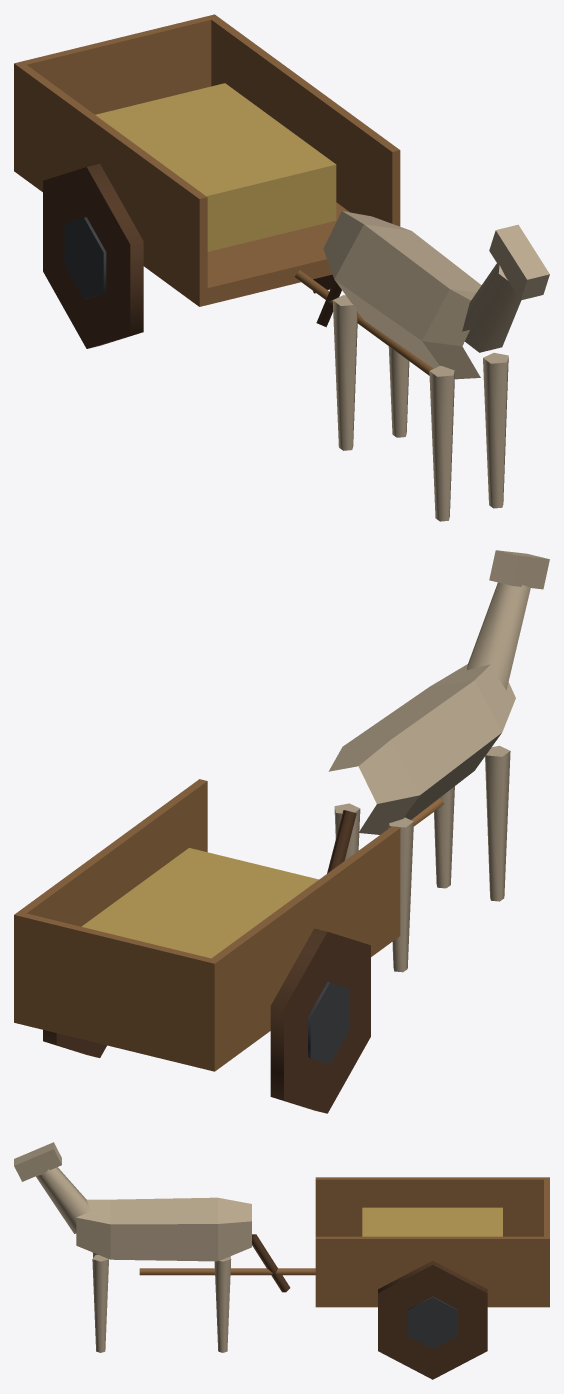
The model's file is veh_ground_cart_a02_lod1.glb.
3 renders of one model, top to bottom at view 1: azimuth 30°, elevation 25°; view 2: azimuth 150°, elevation 25°; view 3: azimuth 270°, elevation 25°, orthographic. The views are drawn at different scales.
Parts seen in each view (by area): view 1: body, animal_0, wheel_0; view 2: body, animal_0, wheel_0, wheel_1; view 3: body, animal_0, wheel_1.
Boxes of the visible parts, x1,y1,x2,y2 form: body: (14, 14, 433, 375); animal_0: (316, 211, 549, 521); wheel_0: (43, 164, 143, 348); body: (14, 779, 443, 1071); animal_0: (327, 550, 549, 972); wheel_0: (270, 928, 370, 1113); wheel_1: (43, 1030, 106, 1057); body: (139, 1177, 549, 1307); animal_0: (14, 1142, 290, 1352); wheel_1: (378, 1260, 487, 1379).
Size of the model in its own units: 1.84 by 2.23 by 5.49.
